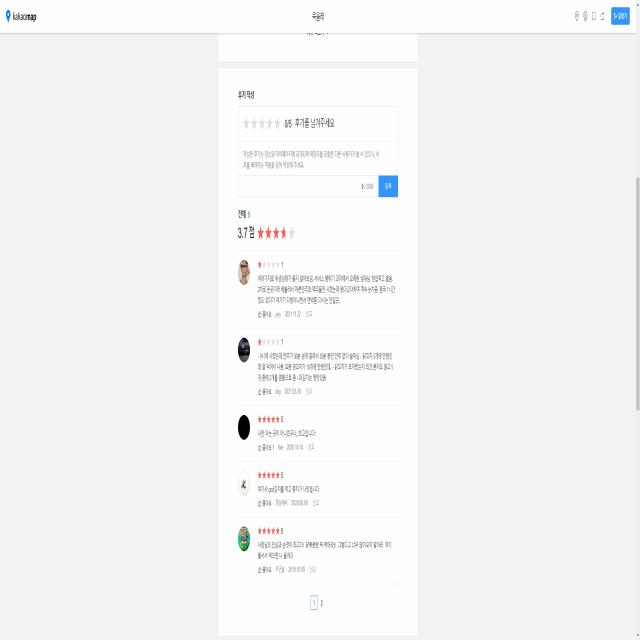menu-bar: (572, 6, 633, 28)
